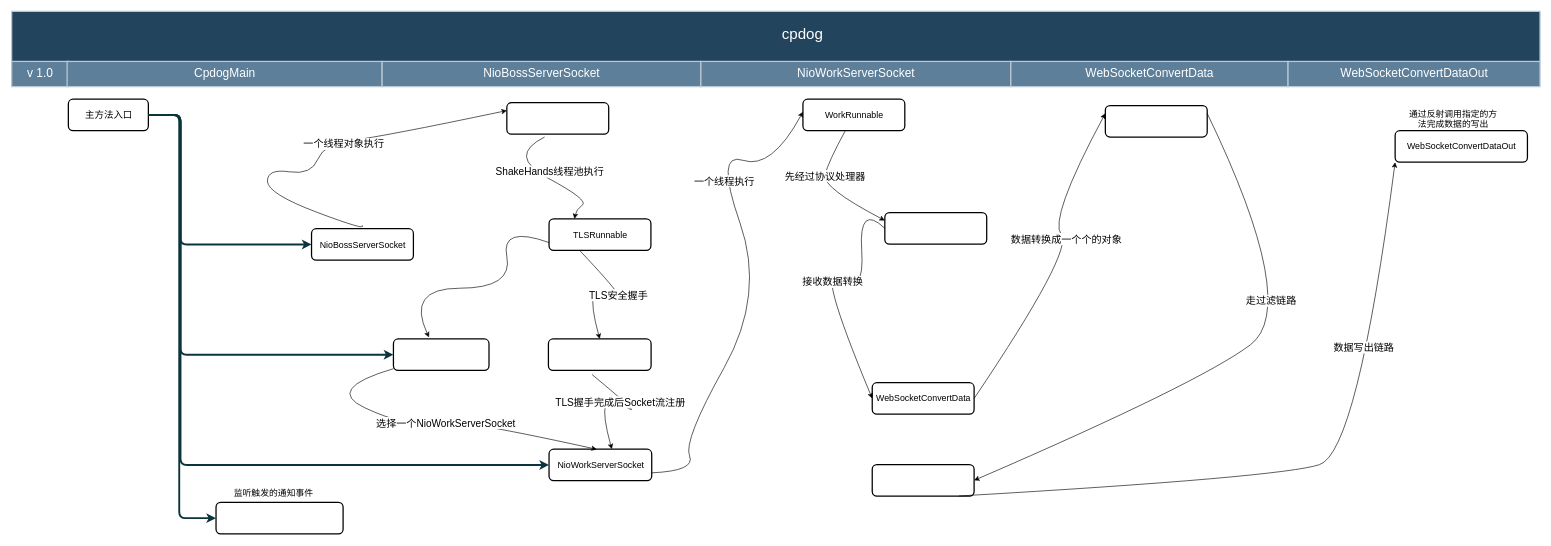
Some shapes in this 1551 by 546 pixel diagram are drawn without their labels. Each missing label, with the centre of its shape:
BossRunnable: the point at 557,118
ChannelProtocolHandler: the point at 935,228
ChooseWorkServer: the point at 440,354
CpDogSSLContext: the point at 599,354
FilterInHandler: the point at 922,480
GlobalEventListener: the point at 279,517
WebSocketData: the point at 1156,121
